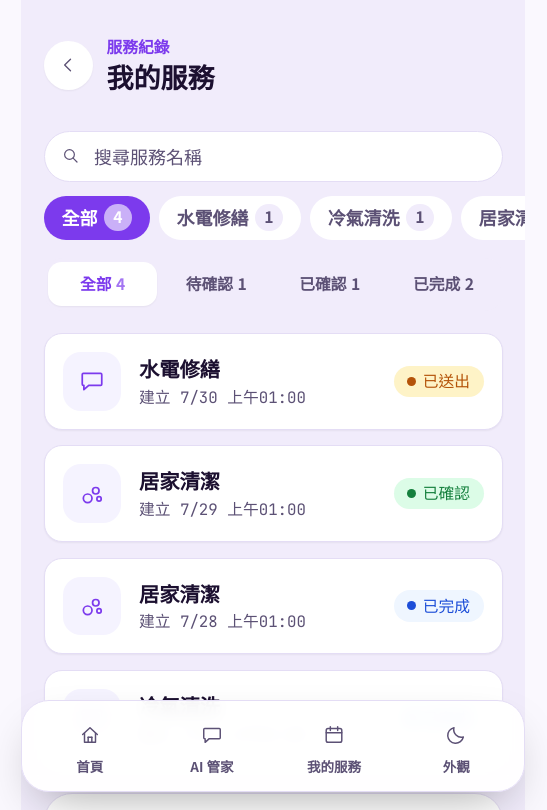
Test: MyServicesPage 分類與搜尋 › shows an empty-state message when no request matches the filters
Type "不存在的服務" into the search field labelled "搜尋服務名稱" at (273,156), box [44,130,502,182]
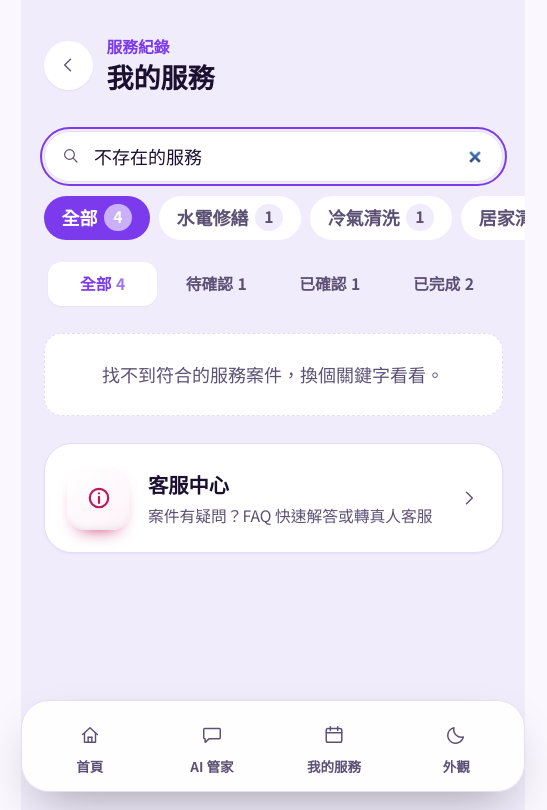
Check: the text "找不到符合的服務案件，換個關鍵字看看。" is shown, box [44,333,502,416]
